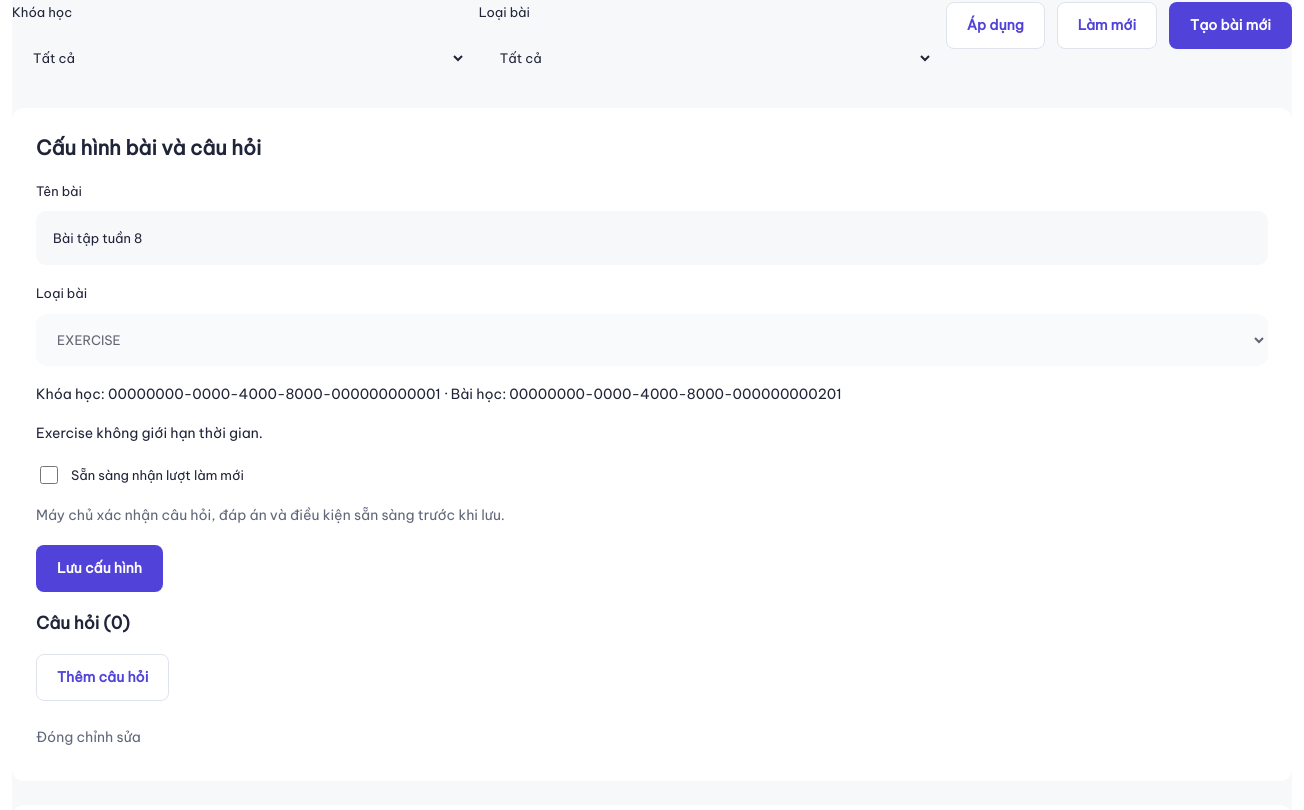
Test case: preserves false answer and server-generated question identity with POST then PUT
Earlier steps of the test are not shown.
Later steps or results of the test are not shown.
Click the button "Thêm câu hỏi": [103, 677] box [36,654,169,701]
(page scrolled)
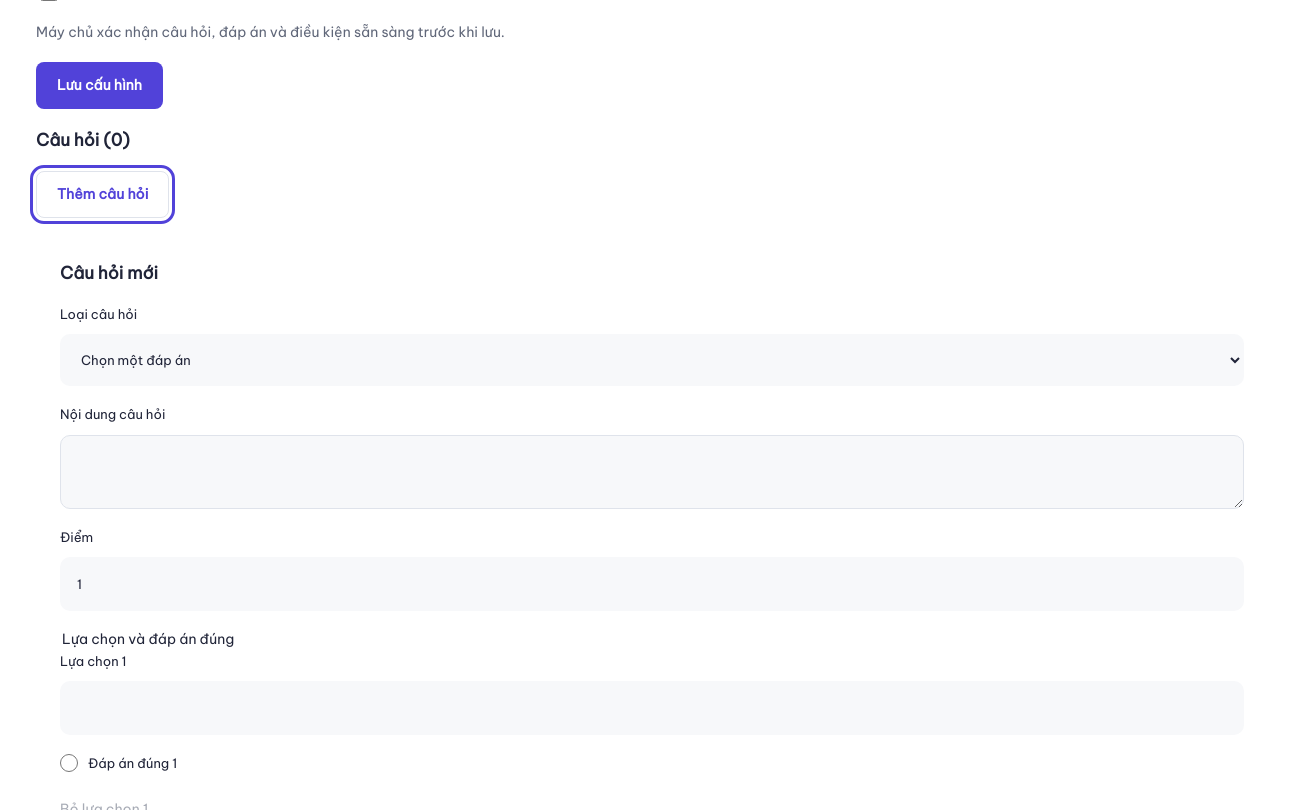
Select "Đúng / Sai" in the dropdown labelled "Loại câu hỏi": [652, 360] box [60,334,1244,386]
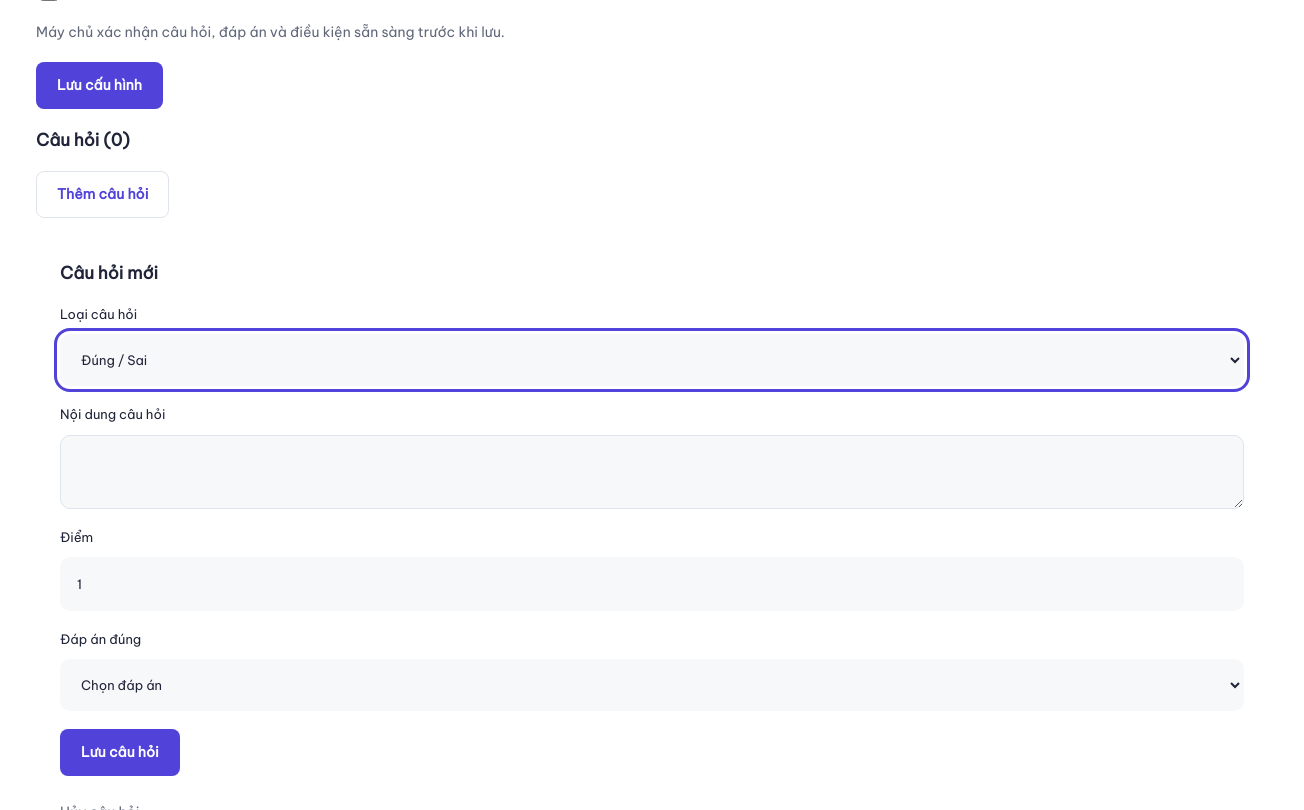
In the text box labelled "Nội dung câu hỏi": [652, 472] box [60,434,1244,509], type "This is false."
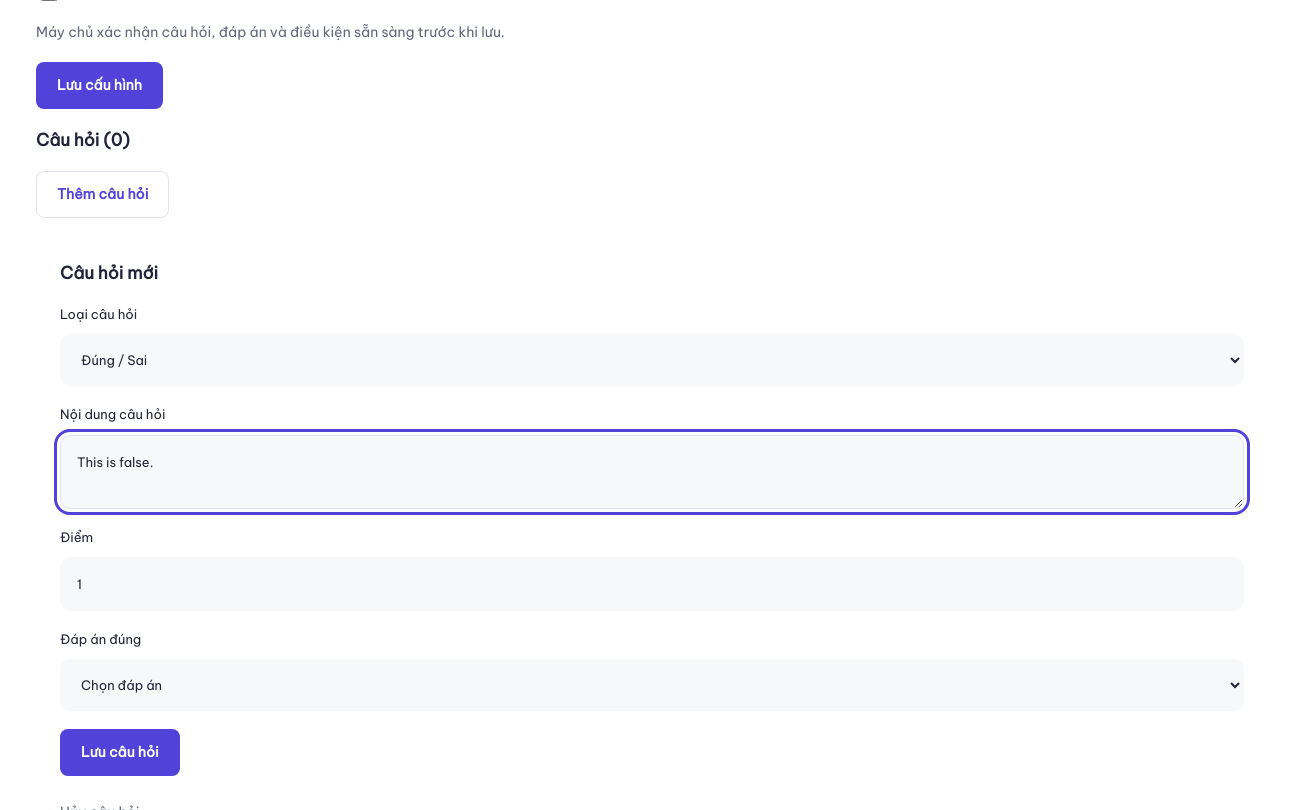
Select "Sai" in the dropdown labelled "Đáp án đúng": [652, 685] box [60,659,1244,711]
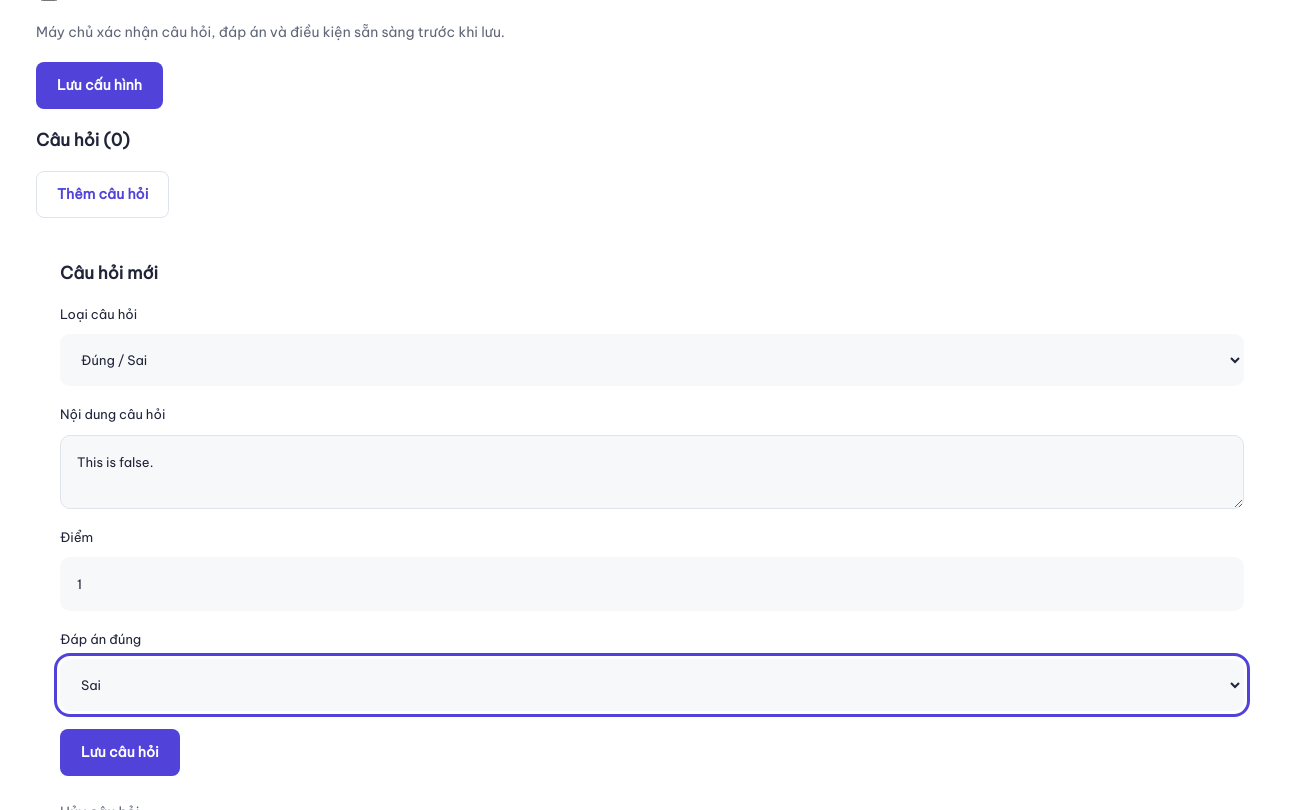
Click the button "Lưu câu hỏi": [120, 753] box [60,729,180,776]
(page scrolled)
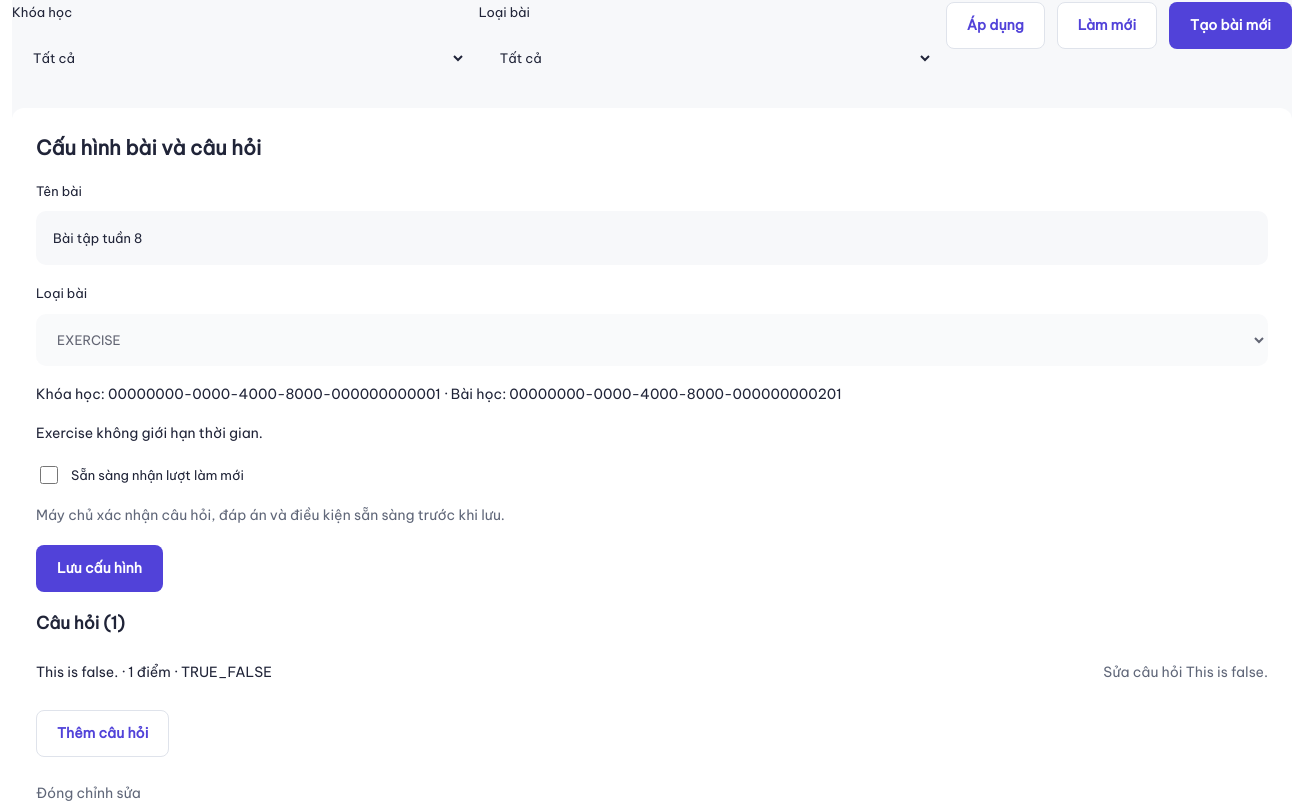
Click the button "Sửa câu hỏi This is false.": [1186, 673] box [1103,654,1268,692]
(page scrolled)
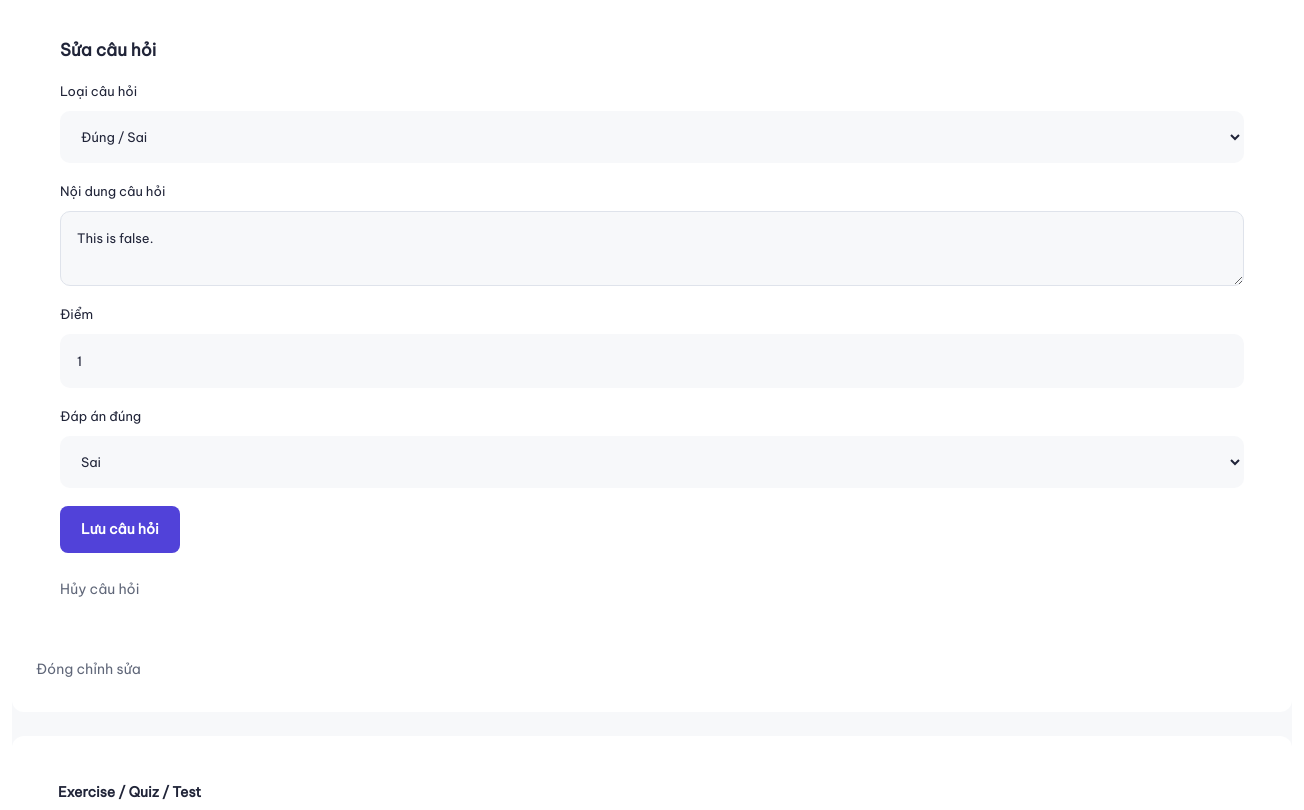
expect the dropdown labelled "Đáp án đúng" shows "Sai": met, box [60,436,1244,488]
